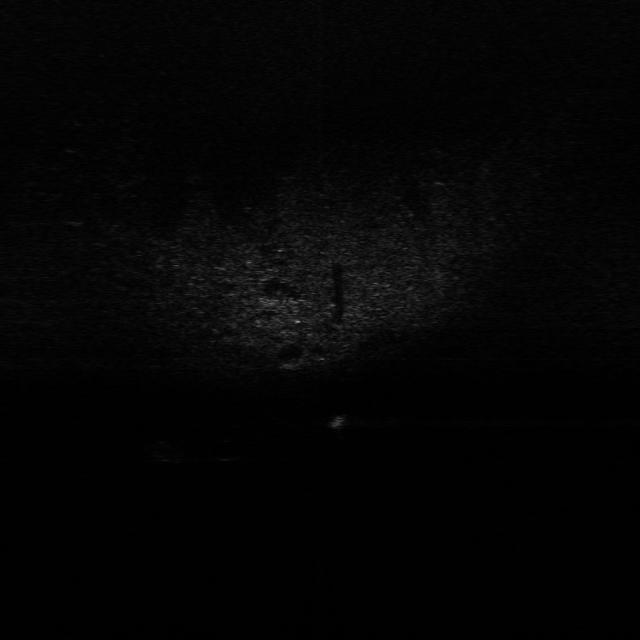ball: (216, 441, 243, 463)
circle cage: (147, 436, 188, 467)
cylinder: (327, 412, 347, 438)
